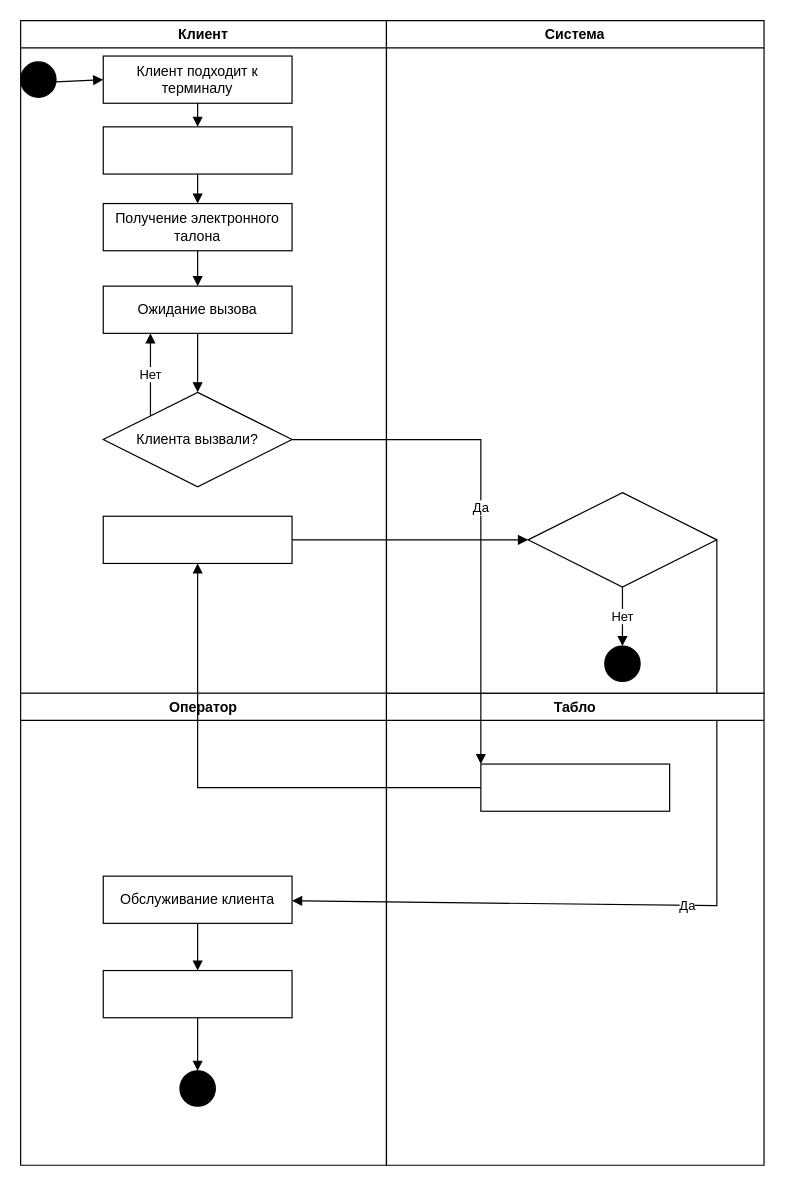
Image size: 785x1186. Some labels were removed from this diagram. Each missing label, with the centre of its shape:
Выбор услуги: (197,150)
Завершение обслуживания: (197,993)
Клиент подошел?: (622,539)
Клиент подходит к окну: (197,539)
Обновление информации на табло: (575,787)
